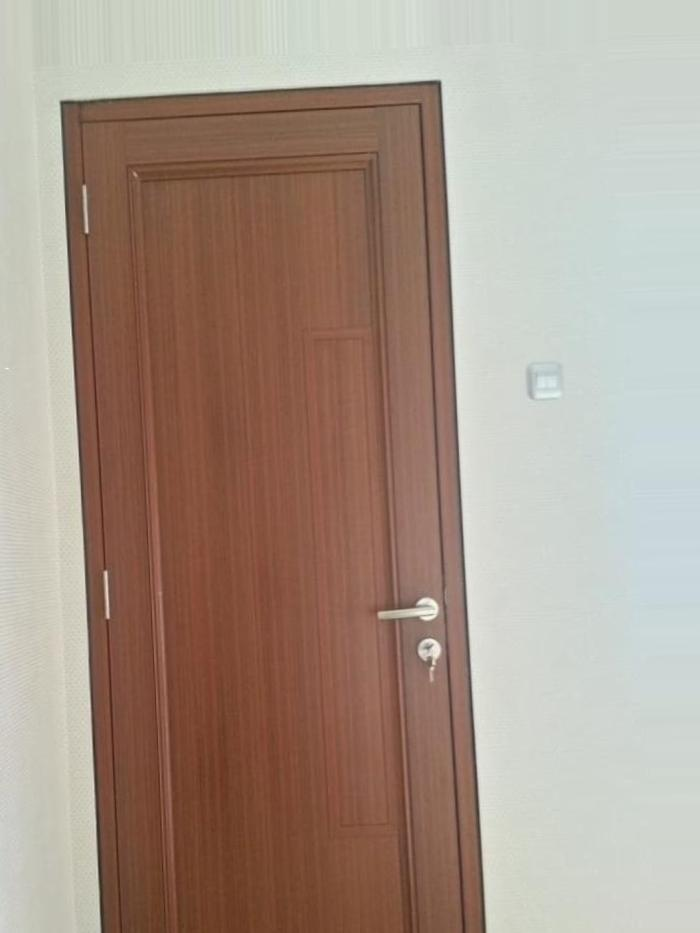door: (53, 71, 451, 933)
